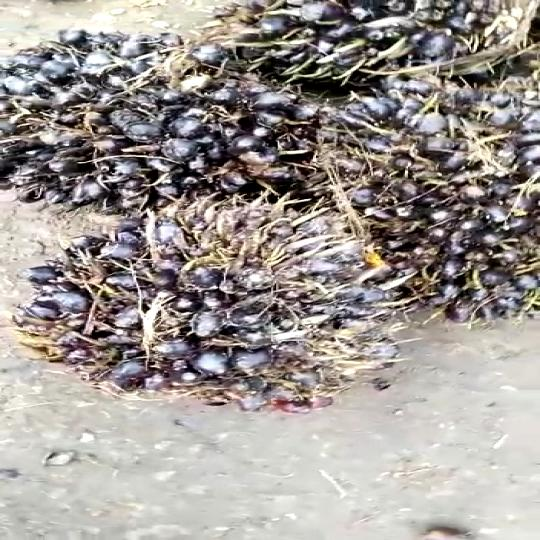mentah: (13, 188, 400, 423), (0, 25, 322, 213), (323, 78, 540, 334), (200, 0, 540, 104)
